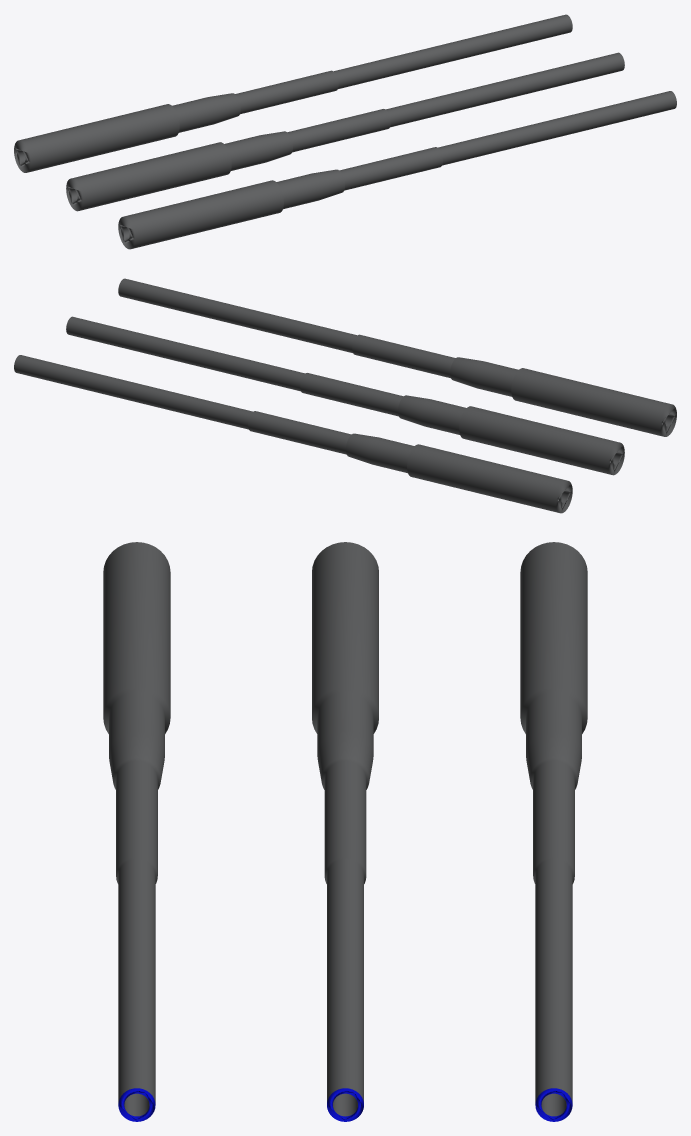
The model's file is Turret fancy export scaled barrel.fbx.
3 renders of one model, top to bottom at view 1: azimuth 30°, elevation 25°; view 2: azimuth 150°, elevation 25°; view 3: azimuth 270°, elevation 25°, orthographic. The views are drawn at different scales.
Visible parts, largest first — view 1: Barrel; view 2: Barrel; view 3: Barrel.
Boxes of the visible parts, x1,y1,x2,y2 form: Barrel: [14, 14, 676, 249]; Barrel: [14, 278, 676, 513]; Barrel: [103, 542, 587, 1121].
Bounding box in the file's own units: 507 × 27.09 × 195.
